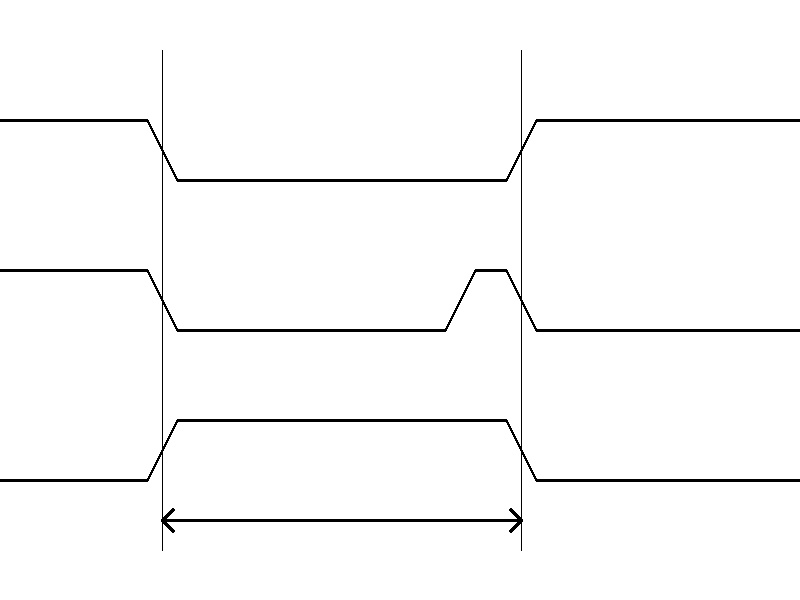double_arrow: (162, 505, 521, 535)
